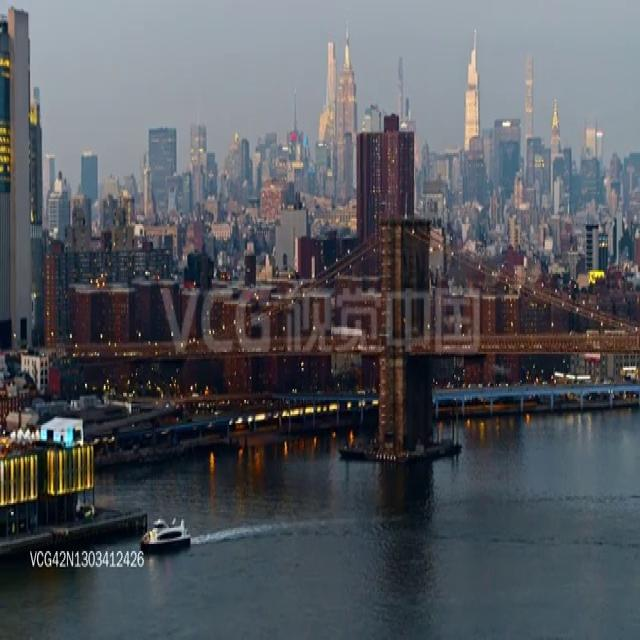houseboat: (138, 514, 190, 546)
